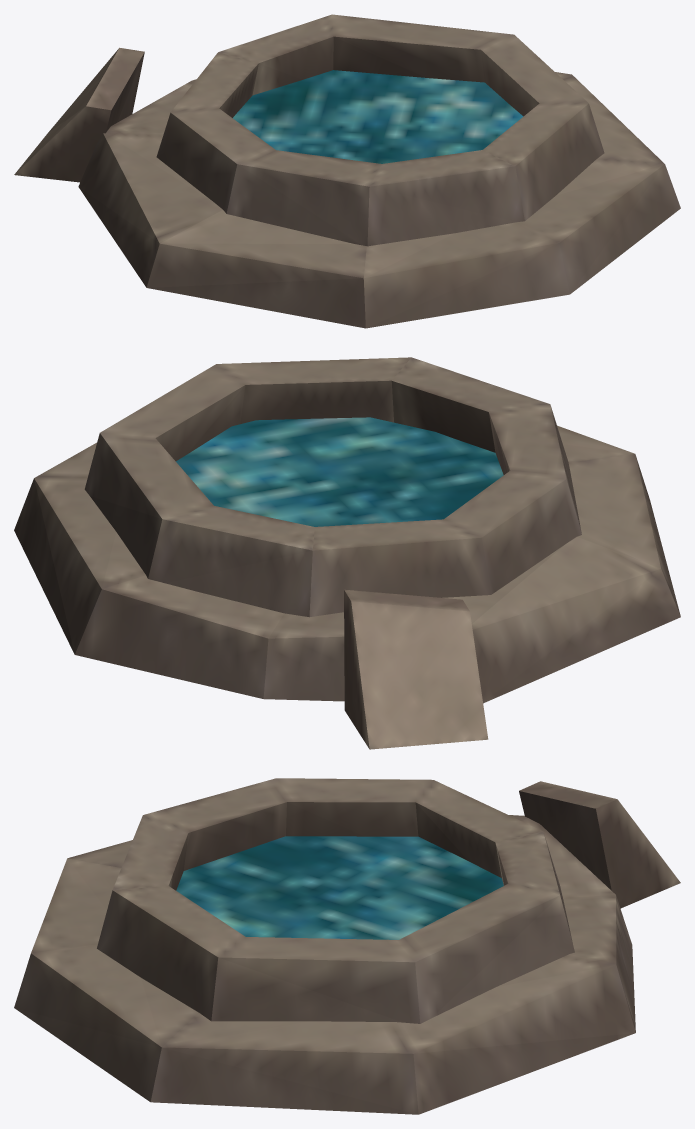
Rendered from Area_07_13.fbx.
3 views of the same model, one above another, from view 1: azimuth 30°, elevation 25°; view 2: azimuth 150°, elevation 25°; view 3: azimuth 270°, elevation 25° (orthographic). The views are drawn at different scales.
Visible parts, largest first — view 1: Area_07_13; view 2: Area_07_13; view 3: Area_07_13.
Part boxes in pixels (box(x1,y1,x2,y2)): Area_07_13: box(14, 14, 680, 328); Area_07_13: box(14, 357, 680, 749); Area_07_13: box(14, 778, 680, 1114).
Size of the model in its own units: 422 by 81.31 by 428.
